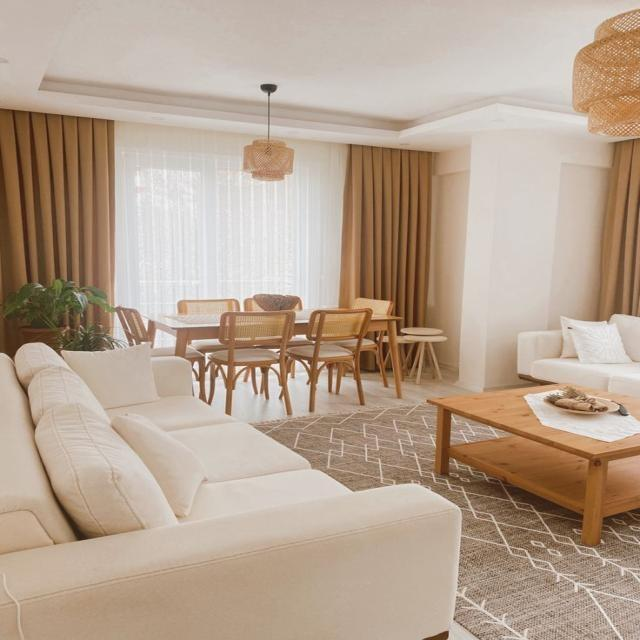obstacle: (0, 341, 462, 638), (426, 382, 639, 546), (142, 309, 404, 402), (516, 312, 640, 398), (203, 308, 294, 418), (294, 308, 378, 408)
